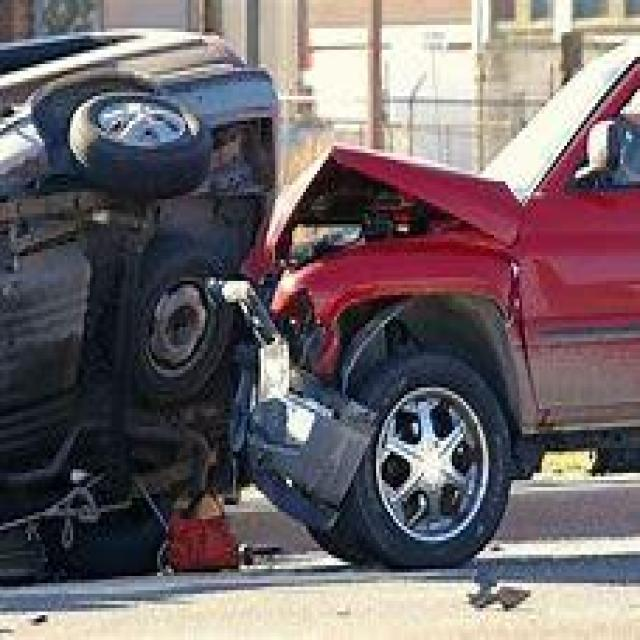Nguy hiểm: (0, 2, 615, 588)
